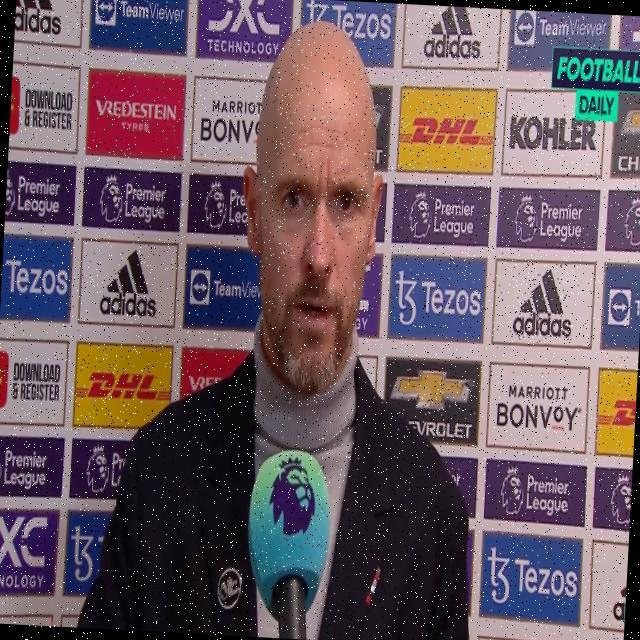Adidas: (511, 262, 575, 343), (99, 248, 161, 320), (423, 5, 483, 63)
Chevrolet: (390, 366, 477, 442)
Kohler: (509, 112, 597, 155)
TeamViewer: (514, 10, 607, 49), (95, 0, 186, 29)
